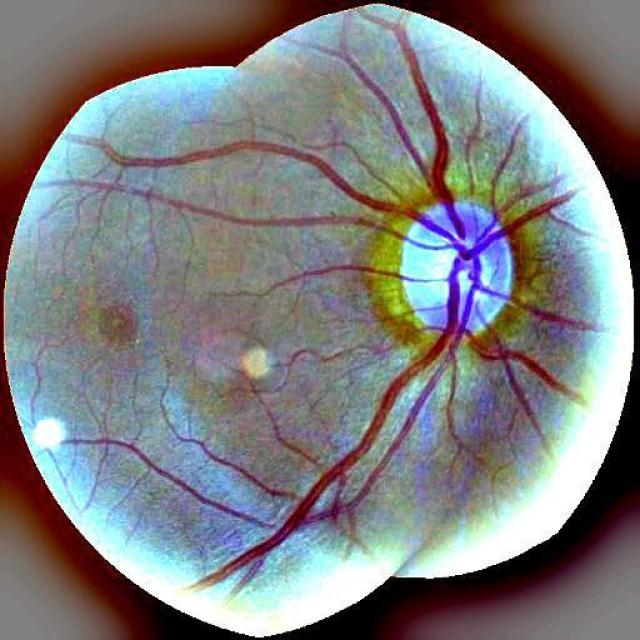Macula: (94, 297, 144, 351)
Nerves: (76, 29, 576, 588)
Optic Disk: (398, 199, 512, 332)
